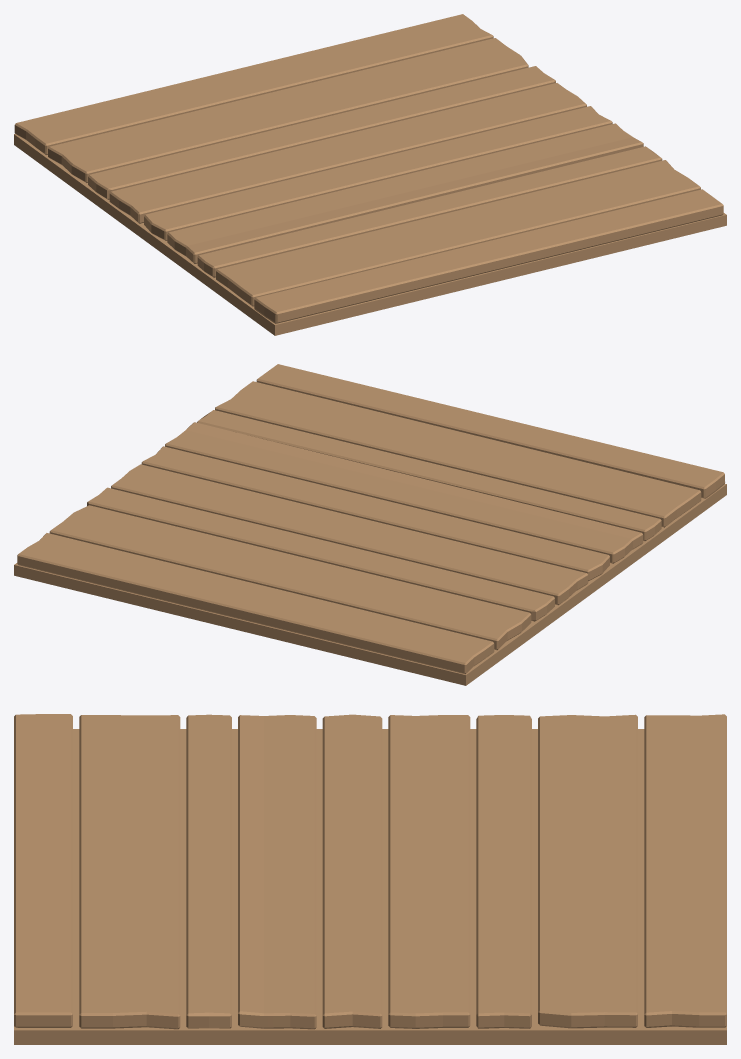
File: floor-a.glb
3 views of the same model, one above another, from view 1: azimuth 30°, elevation 25°; view 2: azimuth 150°, elevation 25°; view 3: azimuth 270°, elevation 25° (orthographic). The views are drawn at different scales.
Visible parts, largest first — view 1: Floor A; view 2: Floor A; view 3: Floor A.
Part boxes in pixels (<box>): Floor A: <box>14,14,726,335</box>; Floor A: <box>14,364,726,685</box>; Floor A: <box>14,714,726,1044</box>.
Bounding box in the file's own units: 3.08 × 0.1537 × 3.08.
